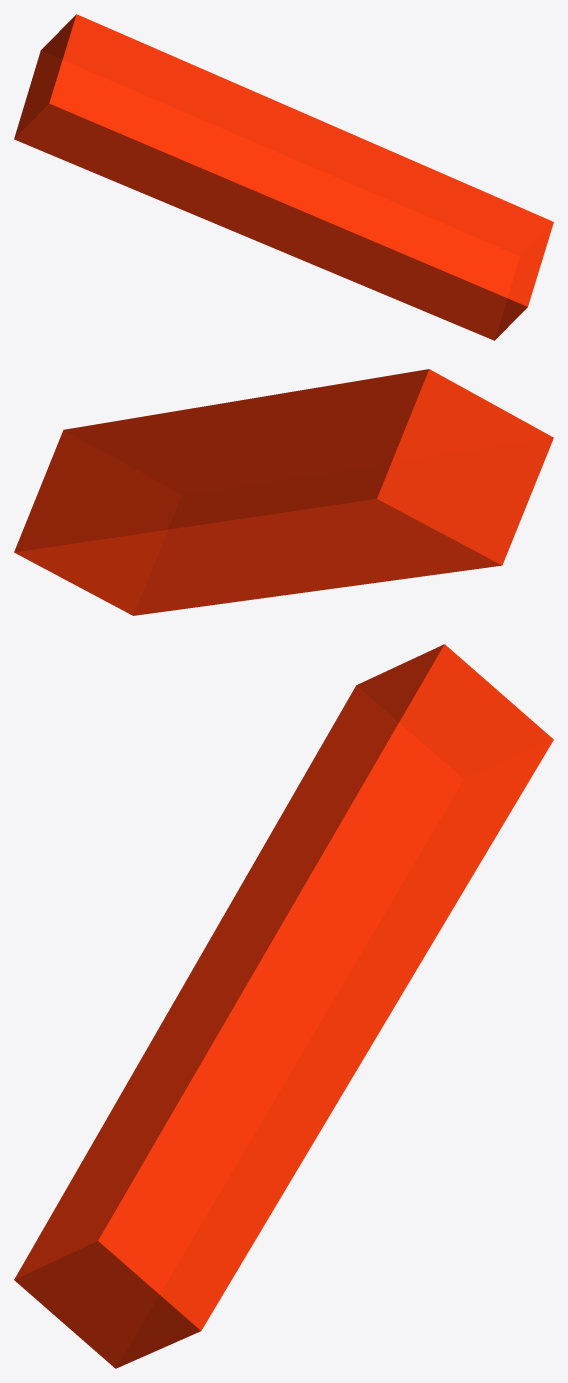
The model's file is Event_421364160_EBrechit_14.fbx.
3 views of the same model, one above another, from view 1: azimuth 30°, elevation 25°; view 2: azimuth 150°, elevation 25°; view 3: azimuth 270°, elevation 25° (orthographic). The views are drawn at different scales.
Parts seen in each view (by area): view 1: Model; view 2: Model; view 3: Model.
Boxes of the visible parts, x1,y1,x2,y2 form: Model: [14, 14, 553, 340]; Model: [14, 369, 553, 615]; Model: [14, 644, 553, 1368].
Size of the model in its own units: 0.2898 by 0.2133 by 0.2114.
